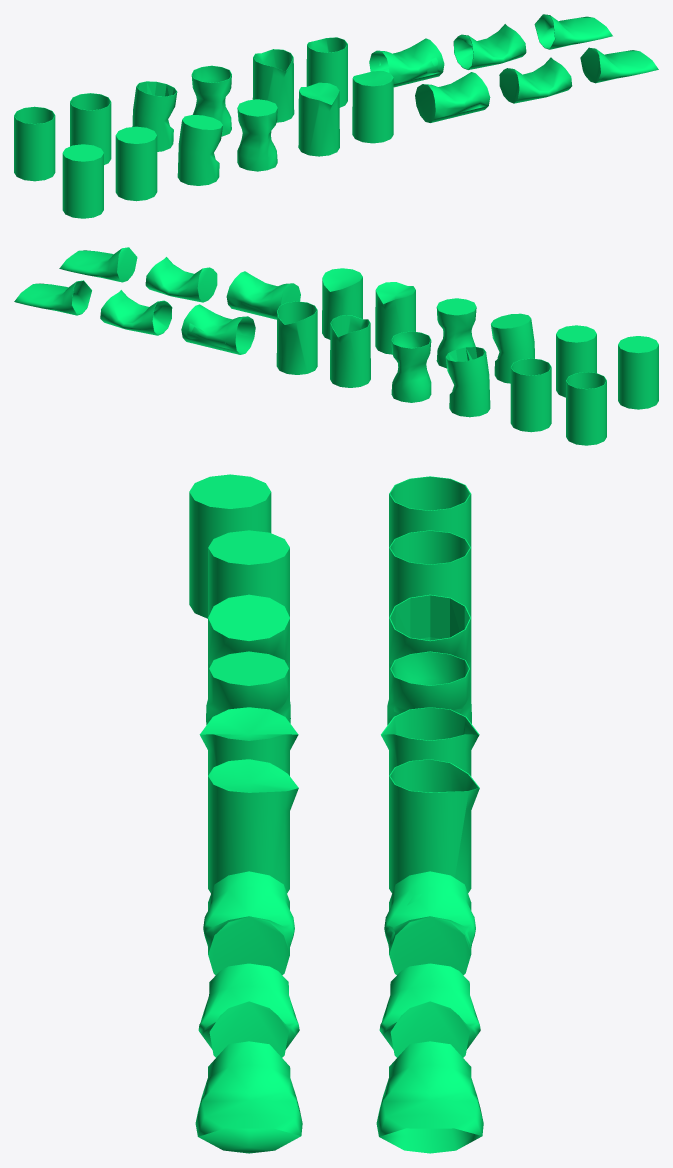
File: MetBarrel_colliders.FBX
The picture shows the model from 3 angles, top to bottom: view 1: azimuth 30°, elevation 25°; view 2: azimuth 150°, elevation 25°; view 3: azimuth 270°, elevation 25°; orthographic projection. The views are drawn at different scales.
Visible parts, largest first — view 1: MetBarrel_clsd_creased_collider, MetBarrel_clsd_reg_collider, MetBarrel_opnd_reg_collider, MetBarrel_clsd_deform_C_collider, MetBarrel_clsd_deform_D_collider, MetBarrel_clsd_deform_A_collider, MetBarrel_clsd_smash_A_collider, MetBarrel_clsd_deform_B_collider, MetBarrel_opnd_deform_C_collider, MetBarrel_opnd_creased_collider, MetBarrel_opnd_smash_A_collider, MetBarrel_opnd_deform_A_collider (+6 smaller); view 2: MetBarrel_opnd_creased_collider, MetBarrel_opnd_deform_D_collider, MetBarrel_clsd_reg_collider, MetBarrel_opnd_reg_collider, MetBarrel_opnd_deform_C_collider, MetBarrel_opnd_deform_A_collider, MetBarrel_opnd_smash_A_collider, MetBarrel_opnd_deform_B_collider, MetBarrel_clsd_deform_C_collider, MetBarrel_clsd_smash_A_collider, MetBarrel_clsd_deform_A_collider, MetBarrel_clsd_creased_collider (+6 smaller); view 3: MetBarrel_opnd_deform_D_collider, MetBarrel_clsd_deform_D_collider, MetBarrel_opnd_smash_C_collider, MetBarrel_clsd_smash_C_collider, MetBarrel_opnd_smash_A_collider, MetBarrel_clsd_smash_A_collider, MetBarrel_clsd_smash_B_collider, MetBarrel_opnd_smash_B_collider, MetBarrel_clsd_reg_collider, MetBarrel_opnd_creased_collider, MetBarrel_clsd_creased_collider, MetBarrel_opnd_deform_A_collider (+6 smaller).
Boxes of the visible parts, left/top/right/bottom form: MetBarrel_clsd_creased_collider: left=115, top=126, right=157, bottom=201; MetBarrel_clsd_reg_collider: left=62, top=144, right=103, bottom=218; MetBarrel_opnd_reg_collider: left=14, top=106, right=55, bottom=181; MetBarrel_clsd_deform_C_collider: left=298, top=82, right=339, bottom=156; MetBarrel_clsd_deform_D_collider: left=352, top=71, right=393, bottom=143; MetBarrel_clsd_deform_A_collider: left=177, top=115, right=222, bottom=185; MetBarrel_clsd_smash_A_collider: left=415, top=72, right=490, bottom=122; MetBarrel_clsd_deform_B_collider: left=237, top=99, right=277, bottom=171; MetBarrel_opnd_deform_C_collider: left=252, top=49, right=294, bottom=122; MetBarrel_opnd_creased_collider: left=70, top=93, right=111, bottom=164; MetBarrel_opnd_smash_A_collider: left=369, top=38, right=444, bottom=87; MetBarrel_opnd_deform_A_collider: left=132, top=81, right=177, bottom=151; MetBarrel_opnd_creased_collider: left=510, top=358, right=551, bottom=432; MetBarrel_opnd_deform_D_collider: left=276, top=301, right=317, bottom=374; MetBarrel_clsd_reg_collider: left=618, top=336, right=658, bottom=409; MetBarrel_opnd_reg_collider: left=566, top=372, right=606, bottom=445; MetBarrel_opnd_deform_C_collider: left=330, top=315, right=370, bottom=387; MetBarrel_opnd_deform_A_collider: left=445, top=347, right=490, bottom=417; MetBarrel_opnd_smash_A_collider: left=181, top=304, right=255, bottom=354; MetBarrel_opnd_deform_B_collider: left=391, top=331, right=431, bottom=402; MetBarrel_clsd_deform_C_collider: left=375, top=282, right=415, bottom=354; MetBarrel_clsd_smash_A_collider: left=226, top=271, right=300, bottom=319; MetBarrel_clsd_deform_A_collider: left=491, top=313, right=534, bottom=383; MetBarrel_clsd_creased_collider: left=556, top=325, right=596, bottom=397; MetBarrel_opnd_deform_D_collider: left=389, top=759, right=479, bottom=893; MetBarrel_clsd_deform_D_collider: left=208, top=759, right=298, bottom=893; MetBarrel_opnd_smash_C_collider: left=376, top=1041, right=483, bottom=1153; MetBarrel_clsd_smash_C_collider: left=195, top=1041, right=302, bottom=1153; MetBarrel_opnd_smash_A_collider: left=384, top=871, right=475, bottom=974; MetBarrel_clsd_smash_A_collider: left=203, top=871, right=294, bottom=975; MetBarrel_clsd_smash_B_collider: left=198, top=963, right=299, bottom=1057; MetBarrel_opnd_smash_B_collider: left=379, top=963, right=480, bottom=1057; MetBarrel_clsd_reg_collider: left=189, top=474, right=271, bottom=618; MetBarrel_opnd_creased_collider: left=389, top=530, right=471, bottom=617; MetBarrel_clsd_creased_collider: left=208, top=530, right=289, bottom=617; MetBarrel_opnd_deform_A_collider: left=389, top=594, right=471, bottom=700.
Bounding box in the file's own units: 955 × 88.13 × 208.
